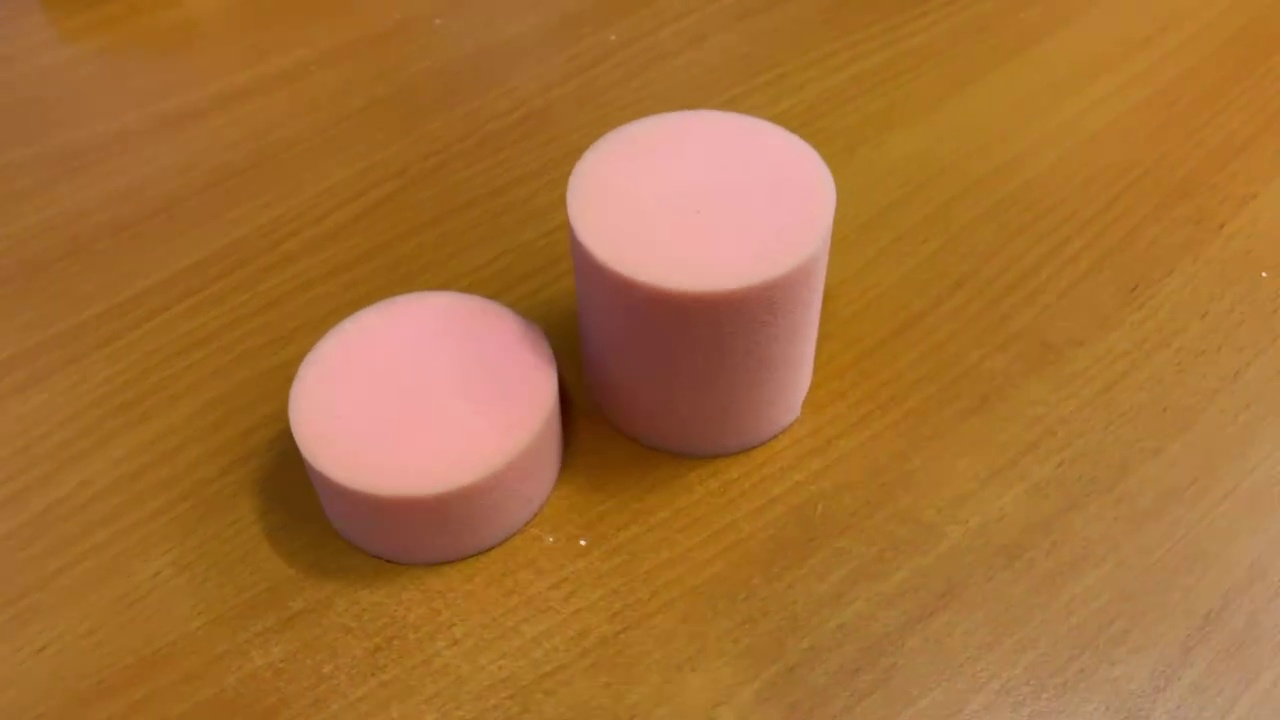Clyinder_short: (275, 285, 575, 569)
Cylinder: (555, 102, 838, 461)
